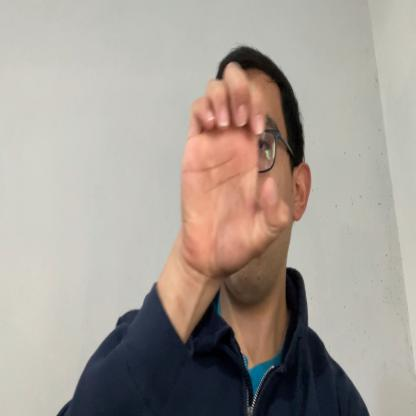E: (181, 61, 291, 274)
